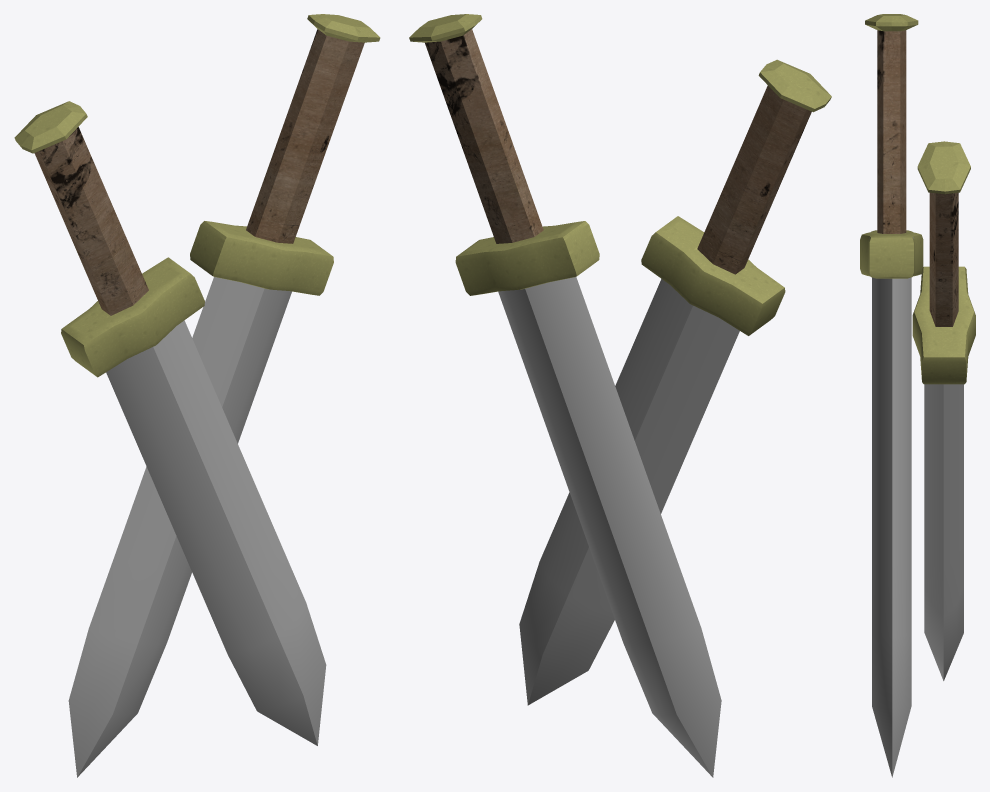
File: swordDMGfbx.fbx
The picture shows the model from 3 angles, left to right: view 1: azimuth 30°, elevation 25°; view 2: azimuth 150°, elevation 25°; view 3: azimuth 270°, elevation 25°; orthographic projection. The views are drawn at different scales.
Visible parts, largest first — view 1: Box001, Box002; view 2: Box002, Box001; view 3: Box001, Box002.
Part boxes in pixels (<box>): Box001: <box>14,101,326,745</box>; Box002: <box>68,14,380,777</box>; Box002: <box>409,14,721,777</box>; Box001: <box>519,59,831,705</box>; Box001: <box>860,14,923,777</box>; Box002: <box>912,141,975,680</box>.
Bounding box in the file's own units: 80.16 × 140 × 22.74.
